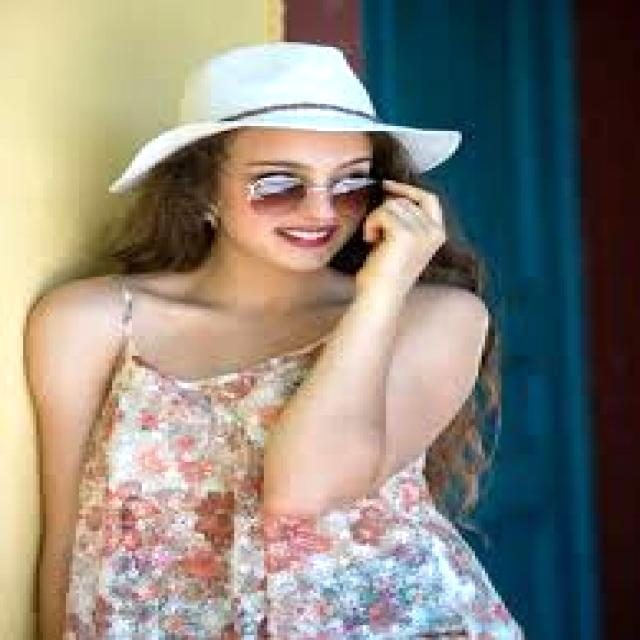dress: (63, 290, 524, 639)
face: (215, 129, 372, 269)
hat: (109, 43, 461, 192)
